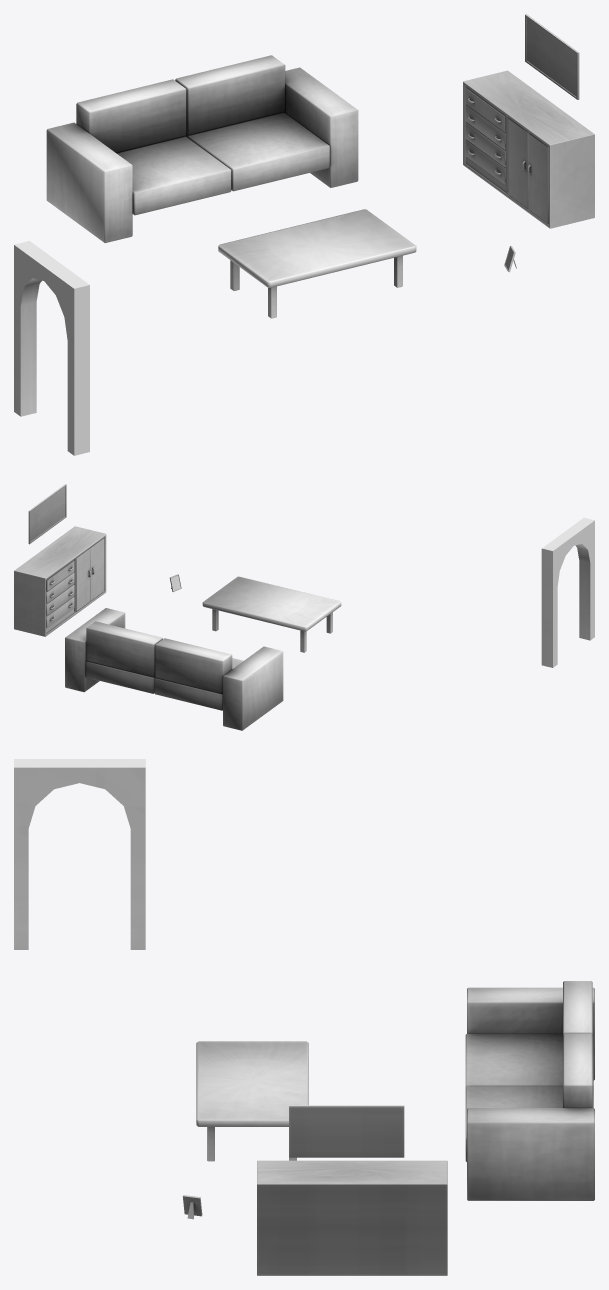
Rendered from roomPieces01_noWall.fbx.
3 views of the same model, one above another, from view 1: azimuth 30°, elevation 25°; view 2: azimuth 150°, elevation 25°; view 3: azimuth 270°, elevation 25° (orthographic). The views are drawn at different scales.
Visible parts, largest first — view 1: unwrapped:pCube15, unwrapped:unwrapped:pCube44, unwrapped:pCube51, unwrapped:pCube30, unwrapped:pCube18; view 2: unwrapped:pCube15, unwrapped:unwrapped:pCube44, unwrapped:pCube51, unwrapped:pCube30, unwrapped:pCube18; view 3: unwrapped:pCube15, unwrapped:unwrapped:pCube44, unwrapped:pCube51, unwrapped:pCube30, unwrapped:pCube18.
Boxes of the visible parts, bbox=[...] form: unwrapped:pCube15: bbox=[46, 55, 358, 243]; unwrapped:unwrapped:pCube44: bbox=[463, 70, 594, 228]; unwrapped:pCube51: bbox=[218, 209, 416, 318]; unwrapped:pCube30: bbox=[14, 241, 89, 455]; unwrapped:pCube18: bbox=[525, 14, 579, 99]; unwrapped:pCube15: bbox=[65, 608, 283, 730]; unwrapped:unwrapped:pCube44: bbox=[14, 526, 106, 636]; unwrapped:pCube51: bbox=[202, 576, 341, 652]; unwrapped:pCube30: bbox=[541, 517, 594, 667]; unwrapped:pCube18: bbox=[28, 484, 66, 544]; unwrapped:pCube15: bbox=[465, 981, 594, 1200]; unwrapped:unwrapped:pCube44: bbox=[257, 1160, 447, 1275]; unwrapped:pCube51: bbox=[196, 1041, 308, 1161]; unwrapped:pCube30: bbox=[14, 759, 145, 949]; unwrapped:pCube18: bbox=[289, 1105, 404, 1157].
Bounding box in the file's own units: 1053 × 266 × 767.
Materials: 1 (1 with a texture image).
